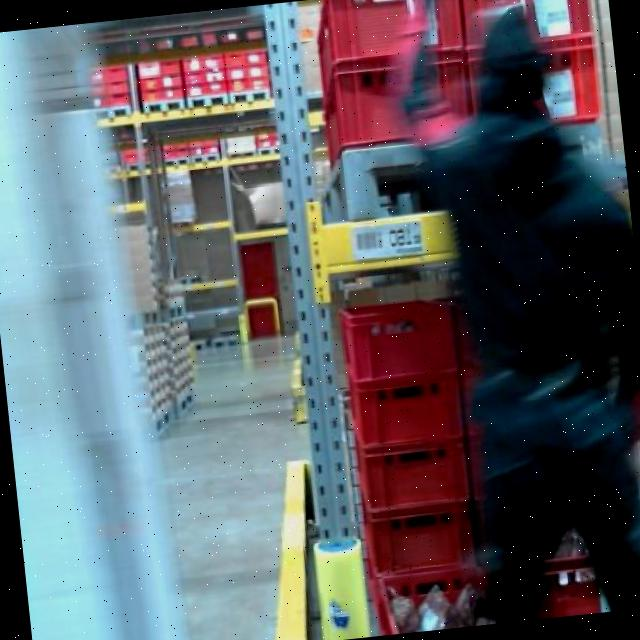pallet: (171, 378, 200, 428), (206, 327, 248, 356), (228, 85, 272, 108), (88, 102, 132, 124), (183, 91, 228, 112), (141, 96, 183, 118), (187, 152, 223, 168), (159, 156, 187, 174)
